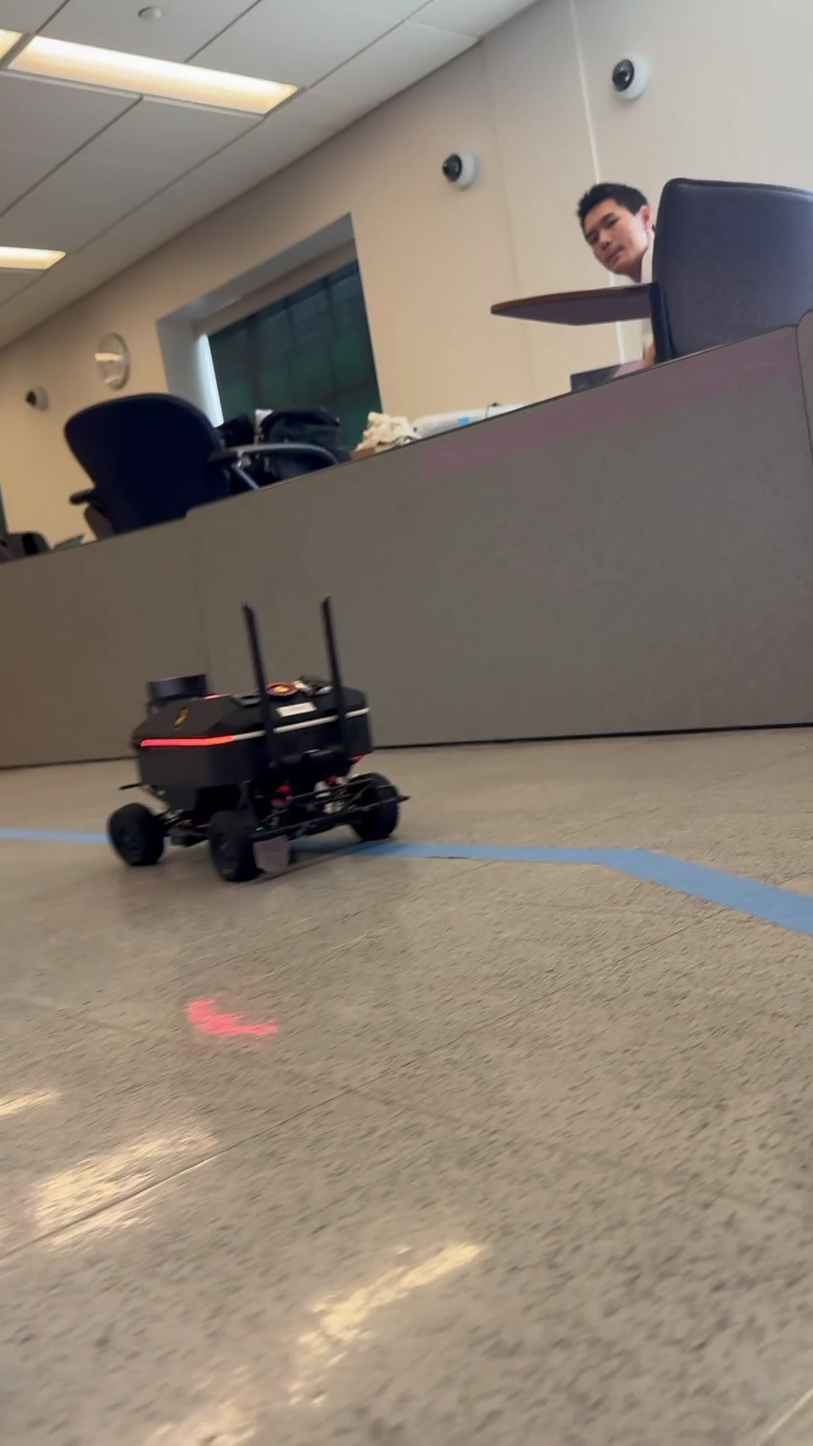racecar: (108, 599, 408, 880)
